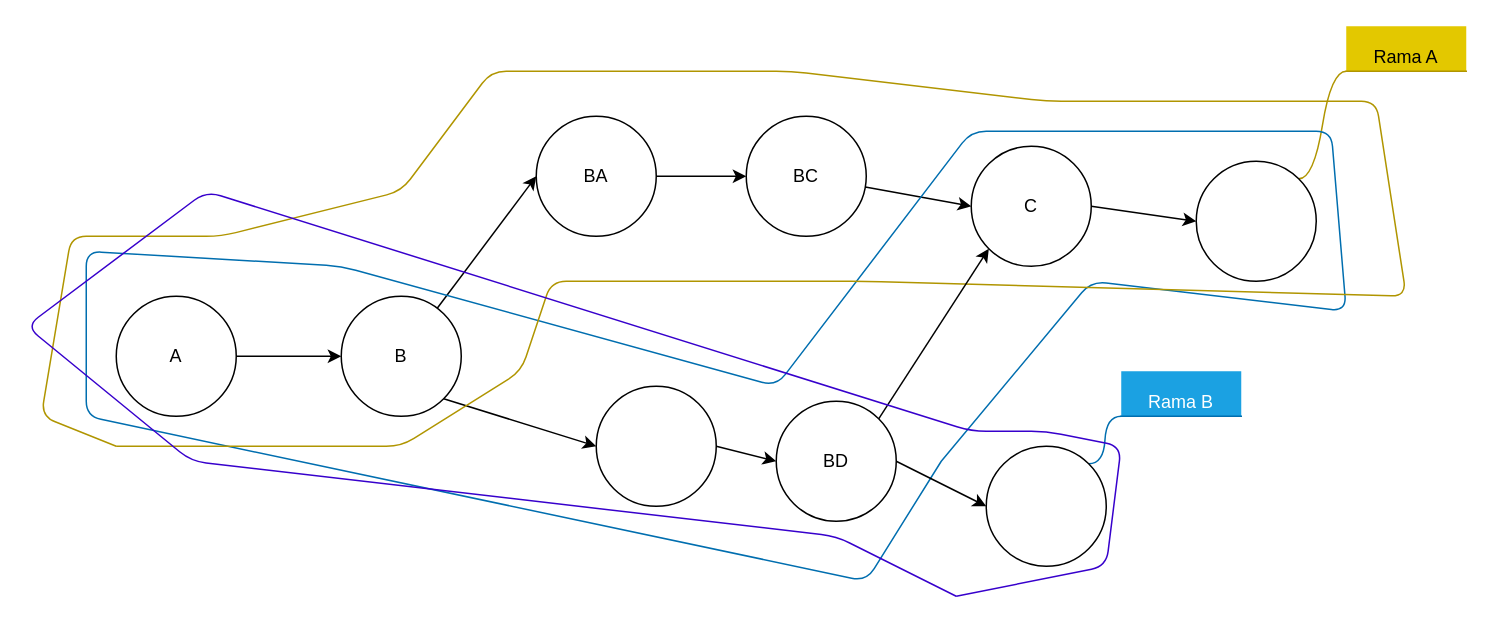
Image size: 1493x624. Some labels were removed from this diagram. Here are the shapes that lost their labels. From the top down, the centre of each, then its label:
the point at 1255,220: CA
the point at 655,445: BB
the point at 1045,505: BE
